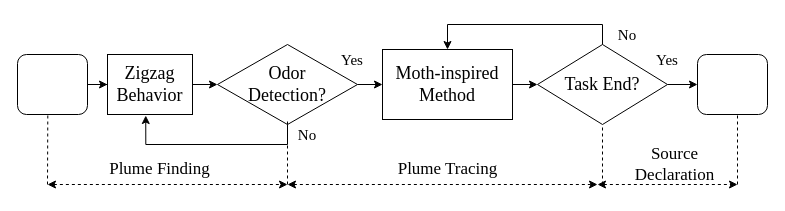
The diagram is 785 pixels wide and 211 high, and some of its shapes have lost their labels. Here are the shapes that lost their labels. From the top down, the centre of each, then its label:
At [52,84]: "Start".
At [732,84]: "End".
